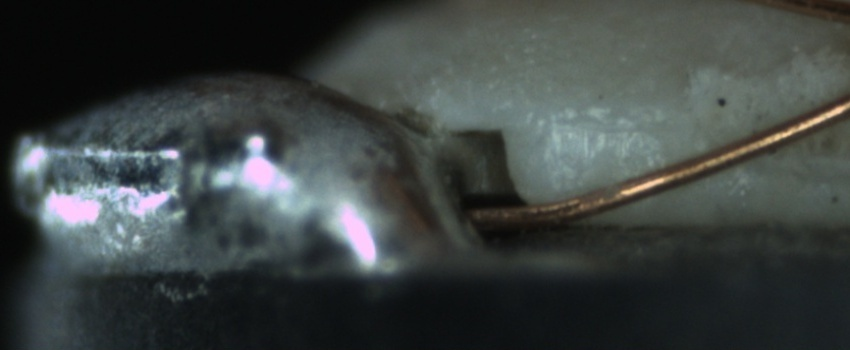DL: (547, 99, 680, 152)
